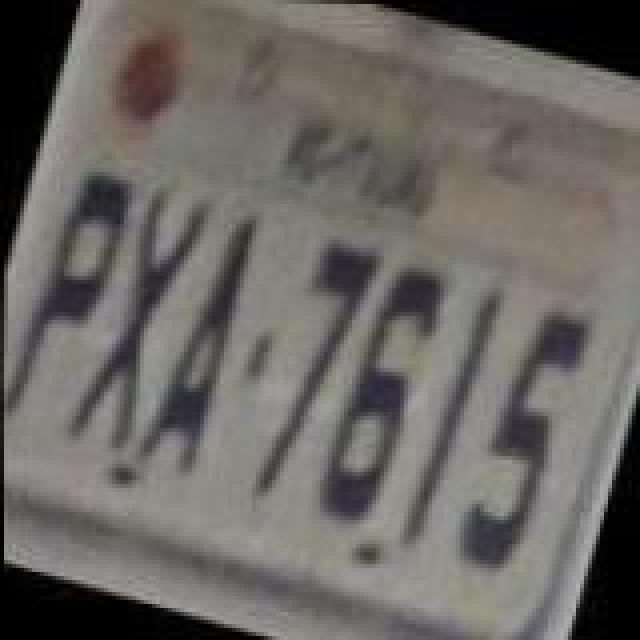1: (392, 272, 500, 552)
5: (444, 292, 592, 584)
6: (304, 250, 448, 538)
7: (242, 232, 382, 520)
A: (132, 200, 264, 480)
P: (2, 148, 134, 436)
X: (64, 176, 212, 468)
